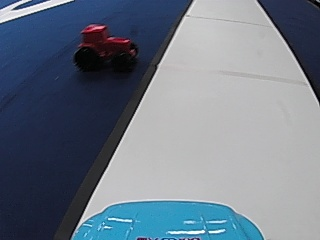tractor: (72, 22, 139, 72)
